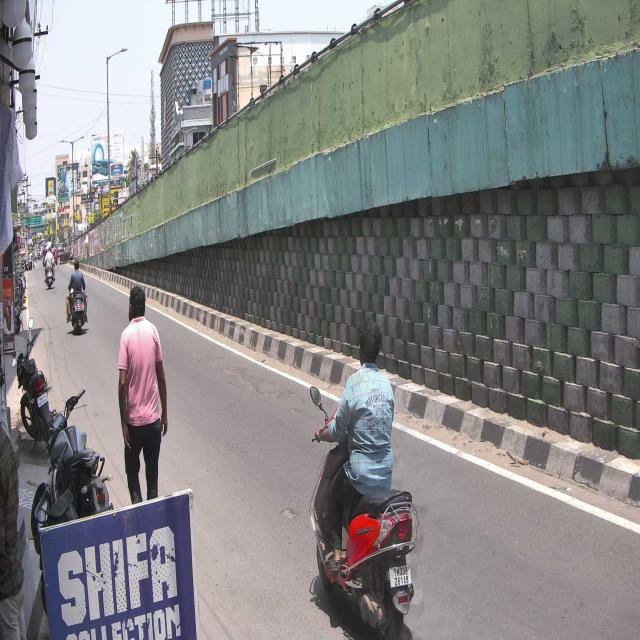single_rider: (309, 315, 420, 640)
